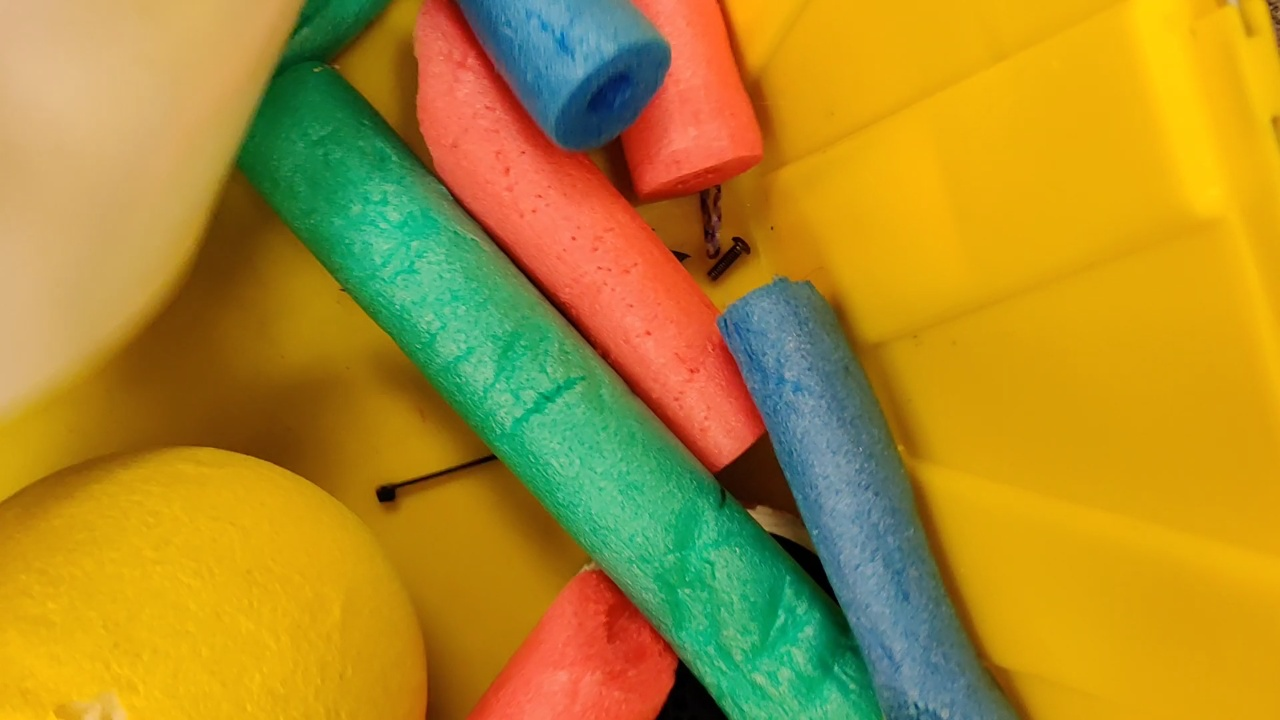Ball: (1, 444, 428, 720)
